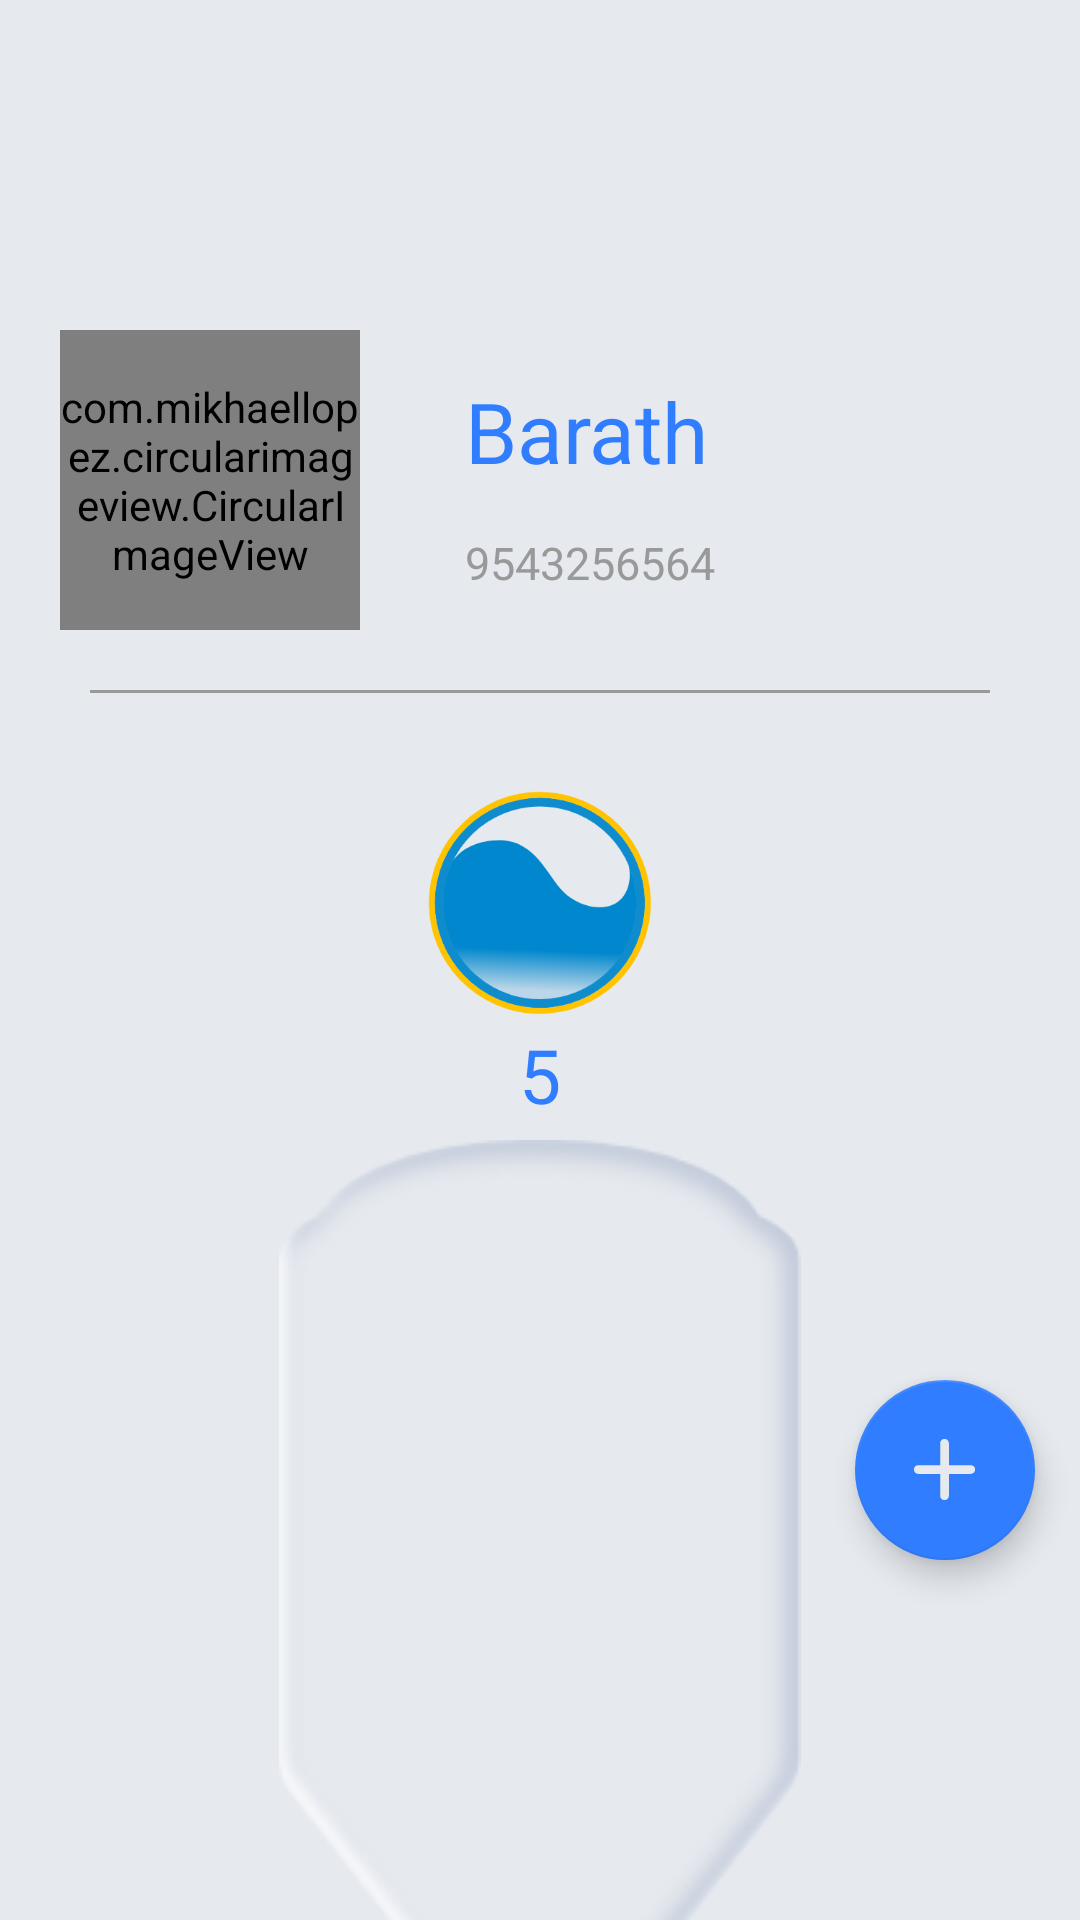

Icons on this 1080px x 1920px Android screen, each with its box as [x1, y1, x2, y2]:
add: [855, 1380, 1035, 1560]
coin: [428, 791, 651, 1014]
